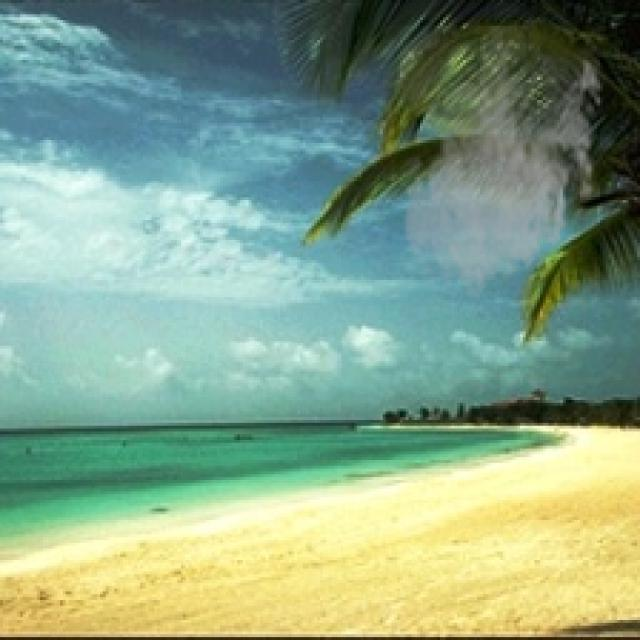smoke: (397, 26, 609, 306)
